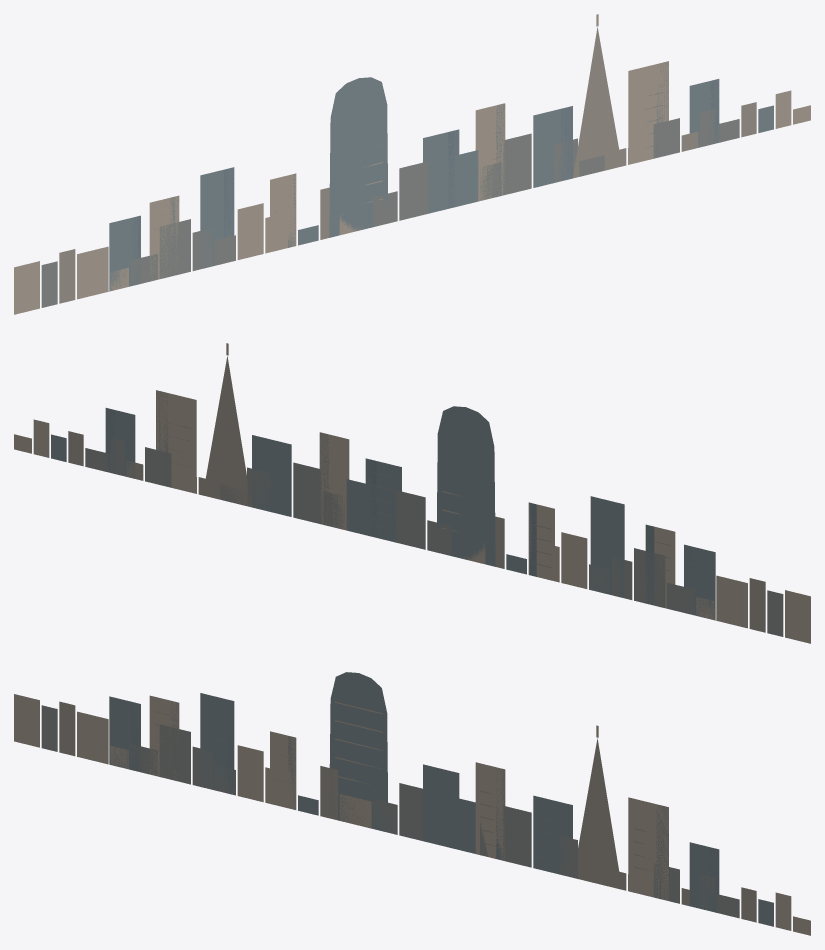
Rendered from alc_far_city.glb.
3 views of the same model, one above another, from view 1: azimuth 30°, elevation 25°; view 2: azimuth 150°, elevation 25°; view 3: azimuth 330°, elevation 25° (orthographic).
Visible parts, largest first — view 1: alc_far_city; view 2: alc_far_city; view 3: alc_far_city.
Boxes of the visible parts, x1,y1,x2,y2 form: alc_far_city: (14,14,810,314); alc_far_city: (14,343,810,643); alc_far_city: (14,672,810,935).
Bounding box in the file's own units: 4.8 × 0.91 × 0.
